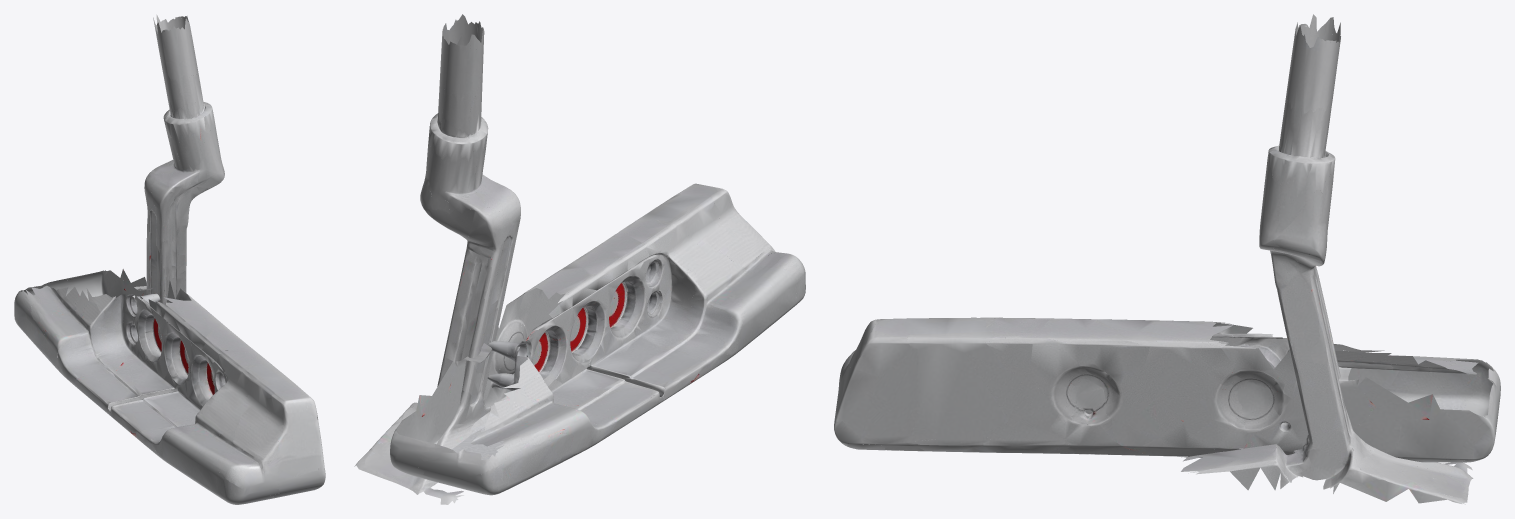
Rendered from putter_std.glb.
The picture shows the model from 3 angles, left to right: view 1: azimuth 30°, elevation 25°; view 2: azimuth 150°, elevation 25°; view 3: azimuth 270°, elevation 25°; orthographic projection. The views are drawn at different scales.
Visible parts, largest first — view 1: pHead, pNeck; view 2: pHead, pNeck; view 3: pHead, pNeck.
Boxes of the visible parts, x1,y1,x2,y2 form: pHead: (14,269,325,504); pNeck: (144,14,224,304); pHead: (390,183,805,495); pNeck: (354,14,520,504); pHead: (834,317,1500,462); pNeck: (1181,14,1473,504).
Bounding box in the file's own units: 0.0414 × 0.088 × 0.1121.
Materials: 1 (1 with a texture image).
